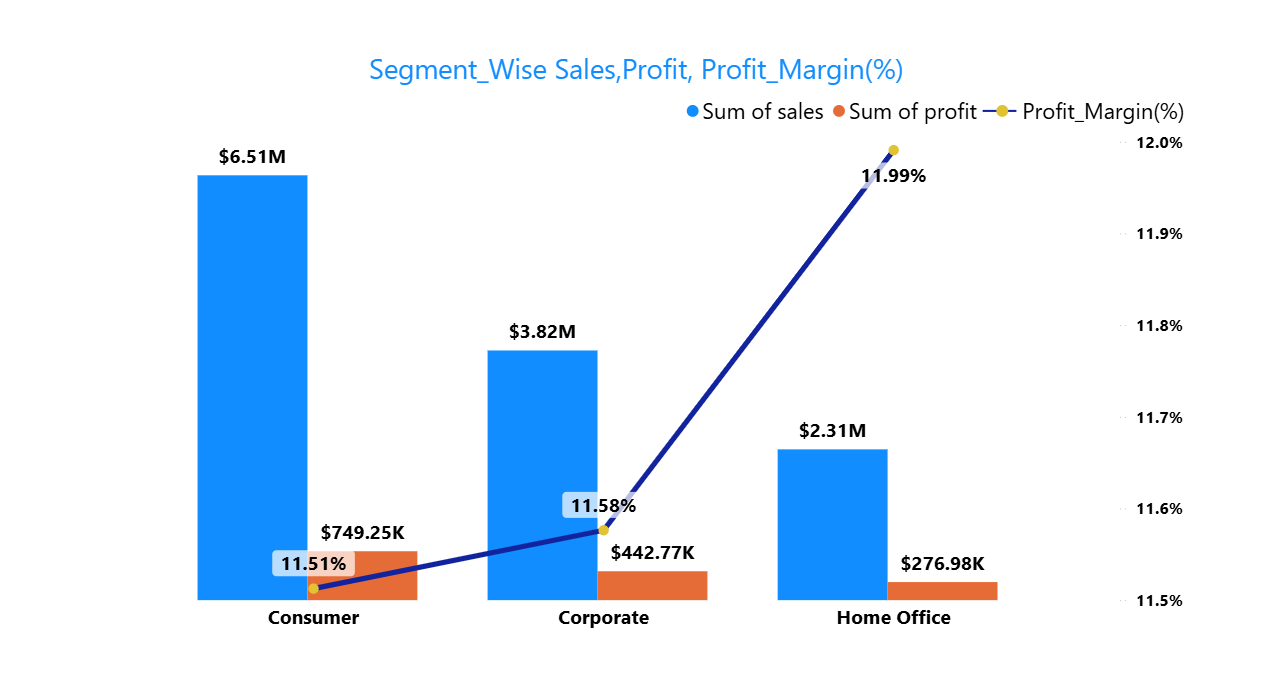

What the dashboard file says about the page in this screenshot:
{"tool":"powerbi","page":{"name":"Segment","canvas":[1280,720],"ordinal":2},"visuals":[{"type":"lineClusteredColumnComboChart","title":"Segment_Wise Sales,Profit, Profit_Margin(%)","fields":{"Category":["SuperStoreOrders.segment"],"Y":["Sum(SuperStoreOrders.sales)","Sum(SuperStoreOrders.profit)"],"Y2":["SuperStoreOrders.Profit_Margin(%)"]},"box":[96.1,72.8,1087.3,573.5],"z":0}]}

Visuals, with their boxes in screenshot pixels (x1, y1, x2, y2), scaled from the page's 1280x720 canvas onto the 1280x700 screenshot:
"Segment_Wise Sales,Profit, Profit_Margin(%)" lineClusteredColumnComboChart: [x1=96, y1=71, x2=1183, y2=628]
